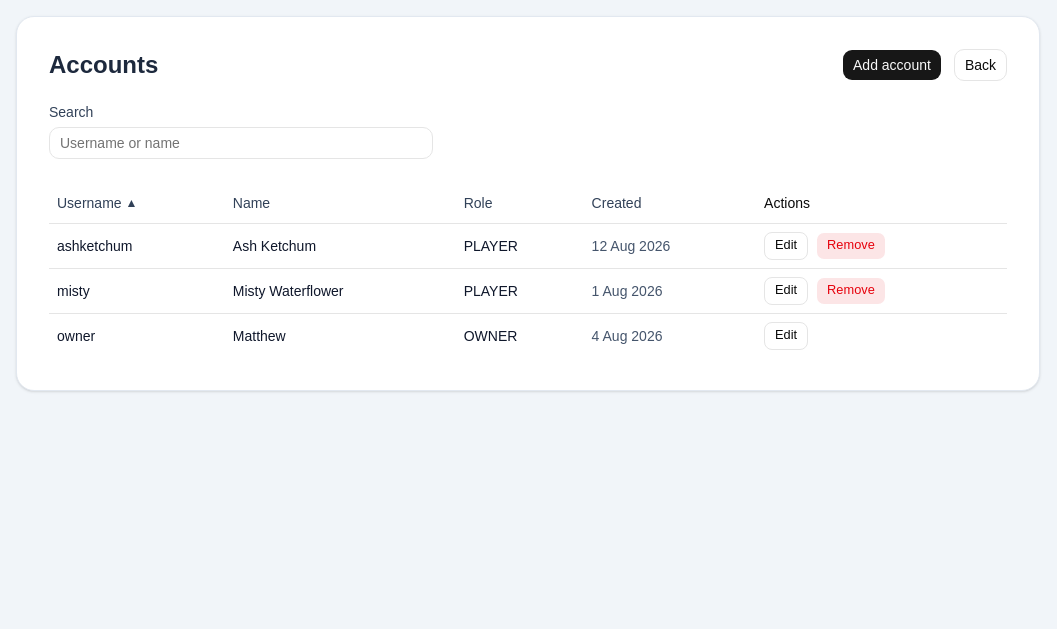
it: AccountsPage › does not let the username be changed on the edit form
The width and height of the screenshot is (1057, 629).
Expected: the text "ashketchum" is shown, x1=49 y1=223 x2=225 y2=268
Click the button with aria-label "Edit misty": click(786, 290) x1=764 y1=276 x2=808 y2=304
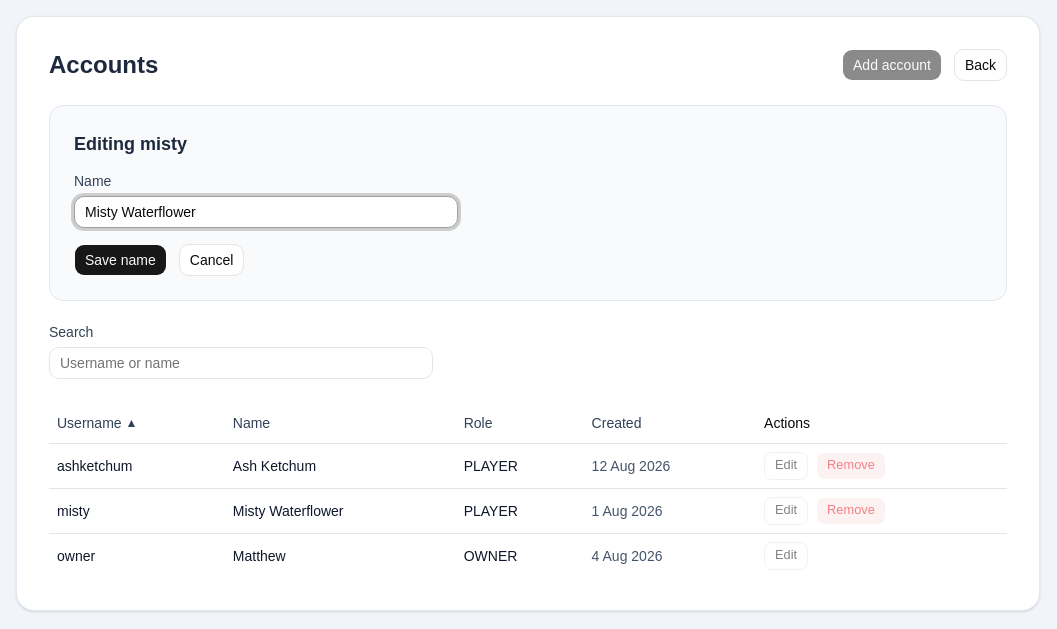
Expected: the heading "Editing misty" is shown, x1=74 y1=134 x2=187 y2=154
